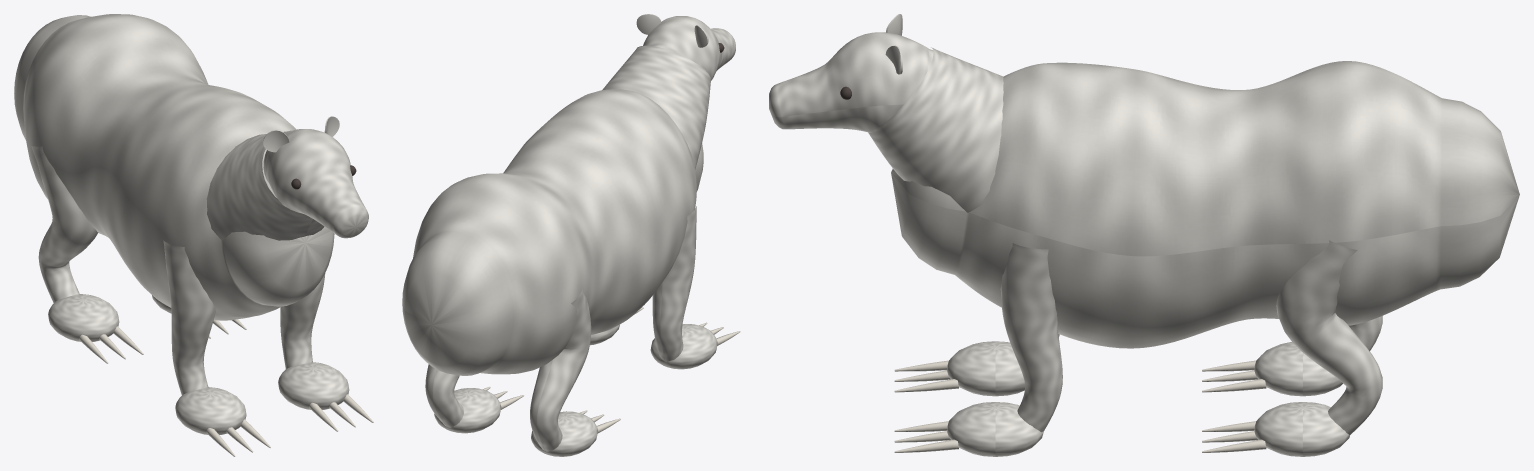
File: other-polar-bear.glb
3 views of the same model, side by side, from view 1: azimuth 30°, elevation 25°; view 2: azimuth 150°, elevation 25°; view 3: azimuth 270°, elevation 25° (orthographic). The views are drawn at different scales.
Visible parts, largest first — view 1: polar-bear; view 2: polar-bear; view 3: polar-bear.
Part boxes in pixels (x1,y1,x2,y2): polar-bear: (14,14,373,456); polar-bear: (402,14,740,456); polar-bear: (769,14,1519,456).
Size of the model in its own units: 0.8026 by 1.49 by 2.6.
4 materials, 1 textured.
